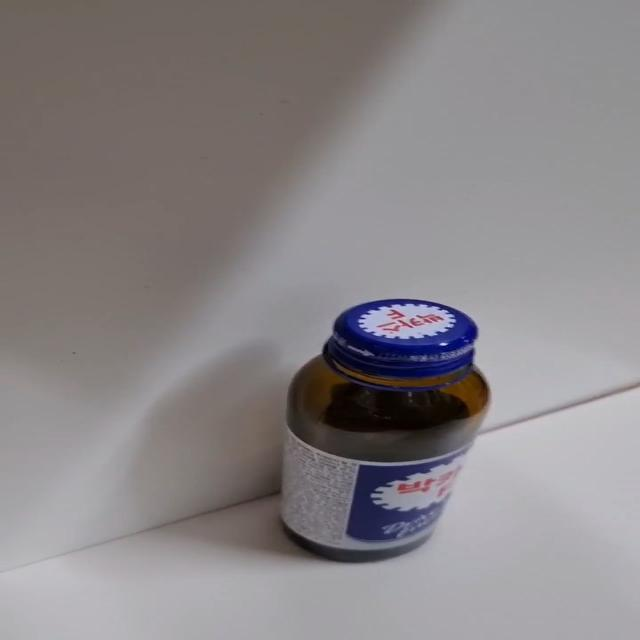Glass: (279, 298, 492, 564)
